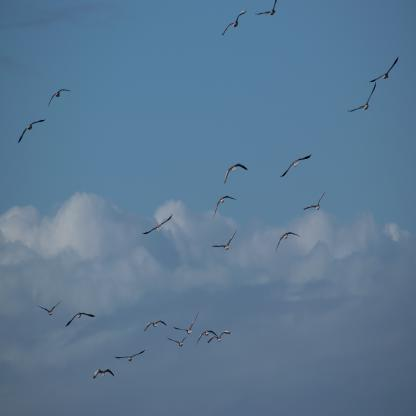bird: (348, 83, 377, 113), (369, 56, 400, 83), (280, 154, 312, 178), (18, 118, 46, 145), (143, 215, 172, 237), (222, 10, 246, 36), (66, 310, 95, 330), (214, 195, 236, 220), (276, 231, 300, 253), (212, 231, 237, 252), (224, 163, 247, 185), (174, 315, 198, 336), (48, 88, 70, 109), (37, 300, 62, 318), (303, 192, 325, 212), (114, 349, 145, 362), (143, 319, 167, 334), (255, 1, 277, 17), (208, 330, 230, 345), (167, 334, 189, 348), (197, 330, 218, 344), (93, 367, 115, 380)
